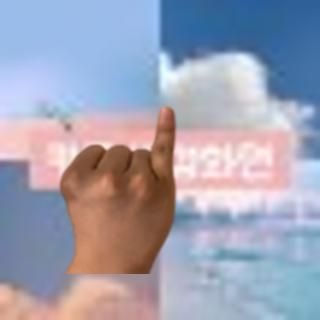FINE: (54, 100, 183, 268)
